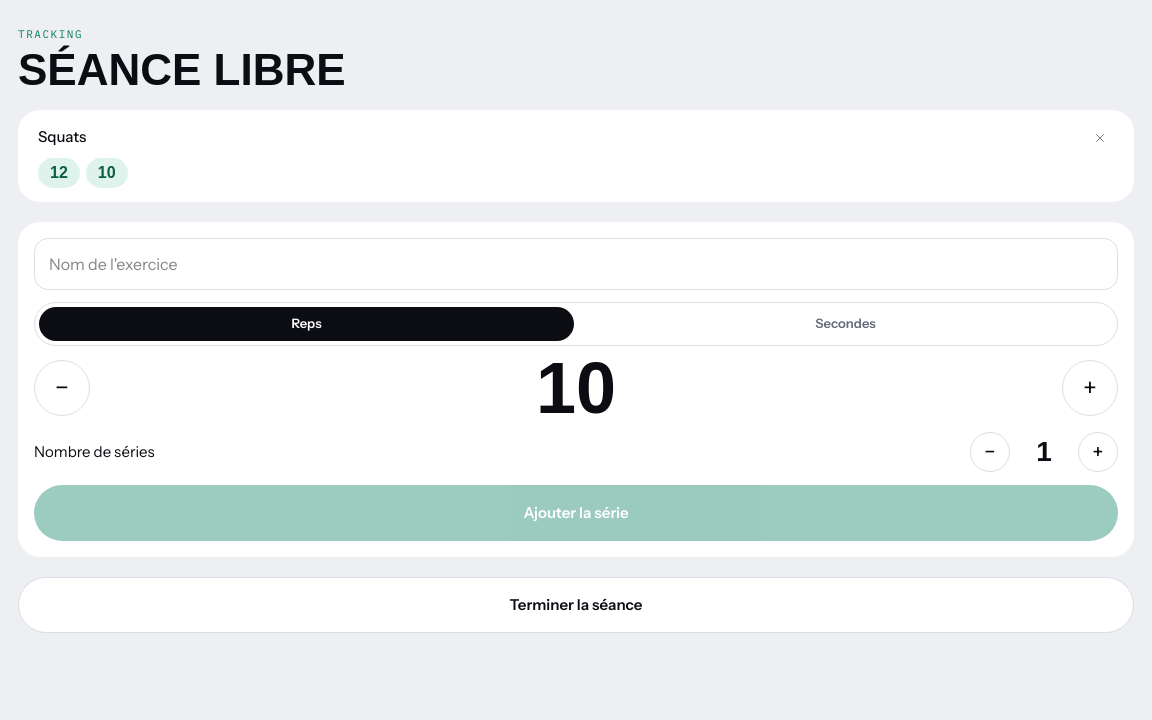
TrackingSeanceScreen › deletes a whole exercise's sets through the exercise-level delete button
Click the button named "Supprimer Squats" at {"x": 1100, "y": 138}, box [1086,124,1114,152]
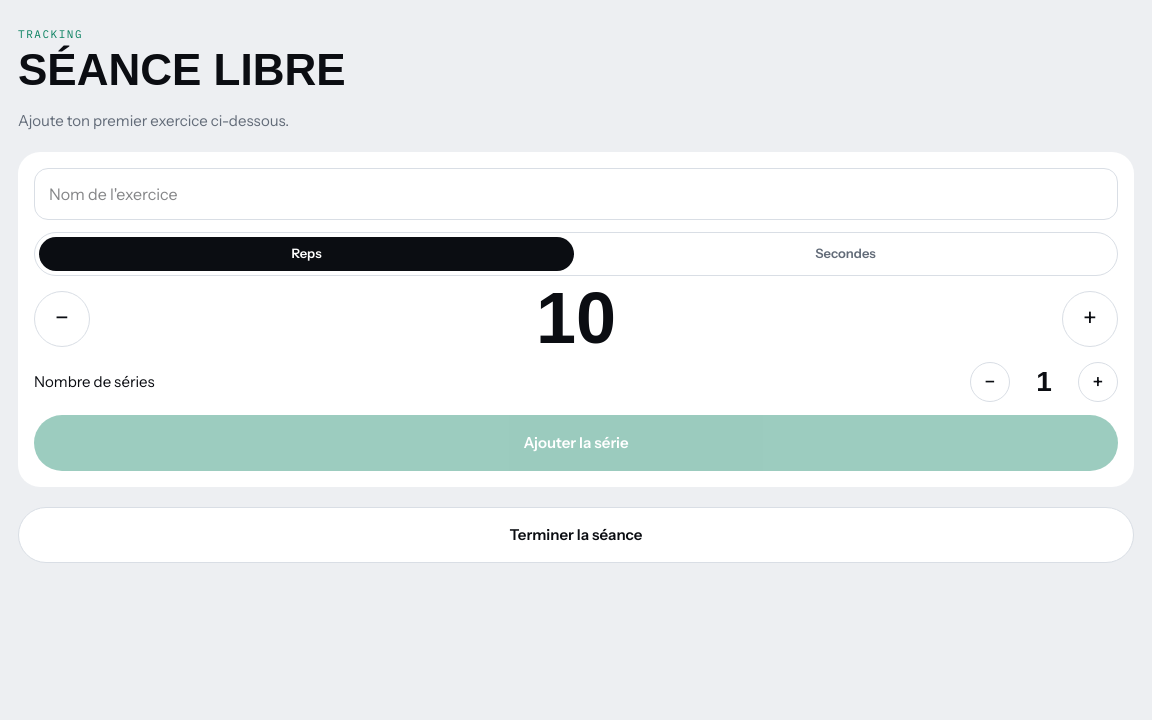
Check: the text "Squats" is gone
Check: the text "Ajoute ton premier exercice ci-dessous." is shown, box [18,111,289,130]
